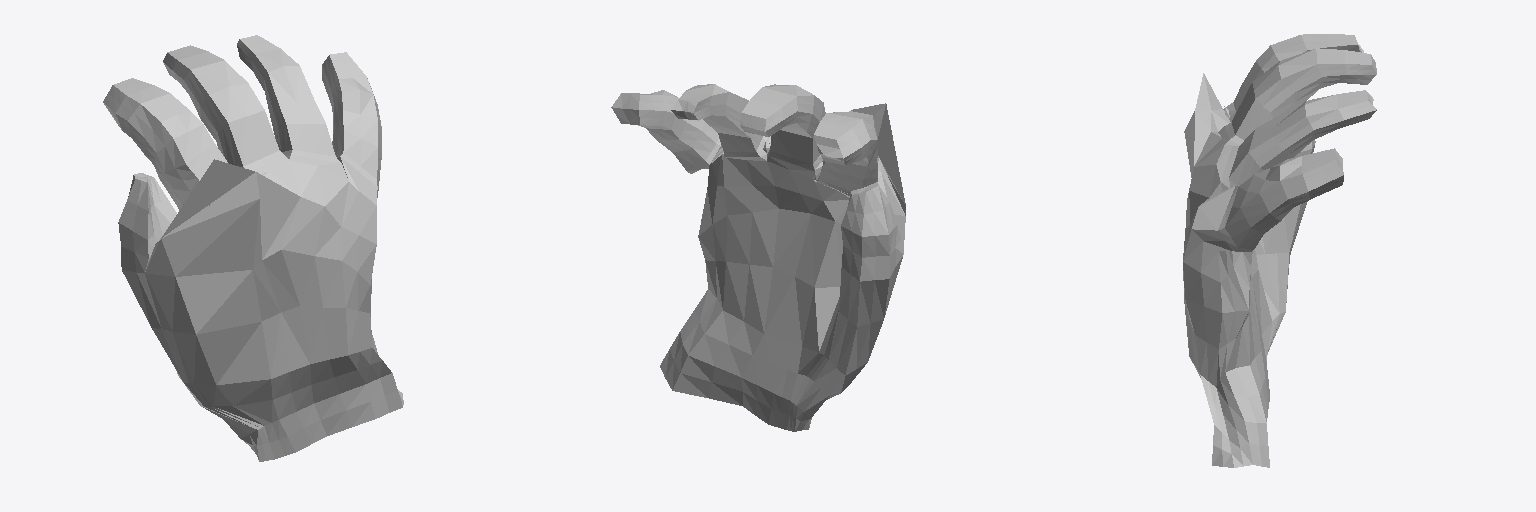
The model's file is grip0033.obj.
3 renders of one model, left to right at view 1: azimuth 30°, elevation 25°; view 2: azimuth 150°, elevation 25°; view 3: azimuth 270°, elevation 25°, orthographic.
Visible parts, largest first — view 1: Hand; view 2: Hand; view 3: Hand.
Part boxes in pixels (left/top/right/bottom): Hand: left=103, top=35, right=403, bottom=461; Hand: left=611, top=84, right=905, bottom=431; Hand: left=1183, top=34, right=1376, bottom=467.
Size of the model in its own units: 2.92 by 4 by 1.9.